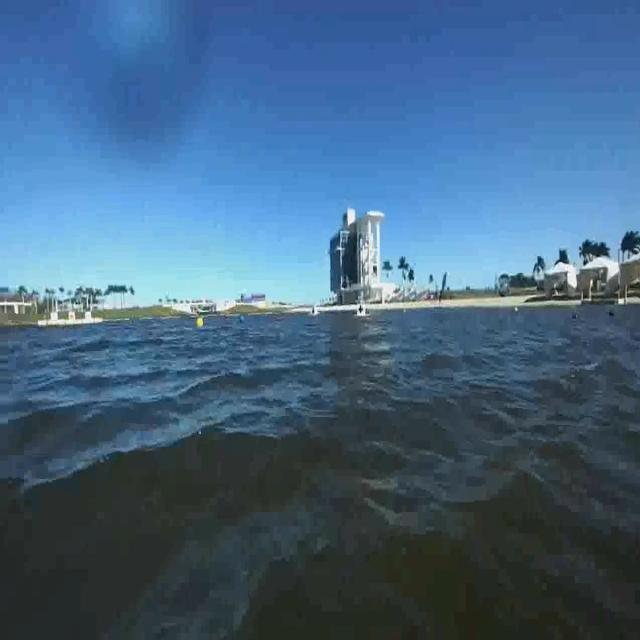yellow-buoy: (197, 318, 205, 332)
